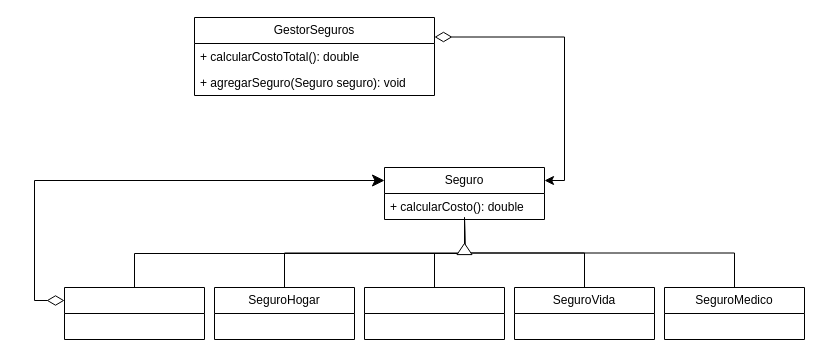
Some shapes in this 822 by 357 pixel diagram are drawn without their labels. Each missing label, with the centre of its shape:
Paquete: the point at 134,313
SeguroAutomovil: the point at 434,313
